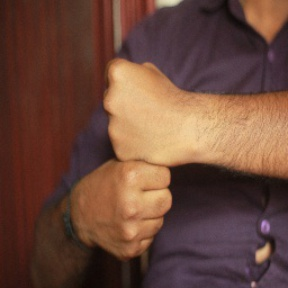G: (78, 57, 185, 263)
